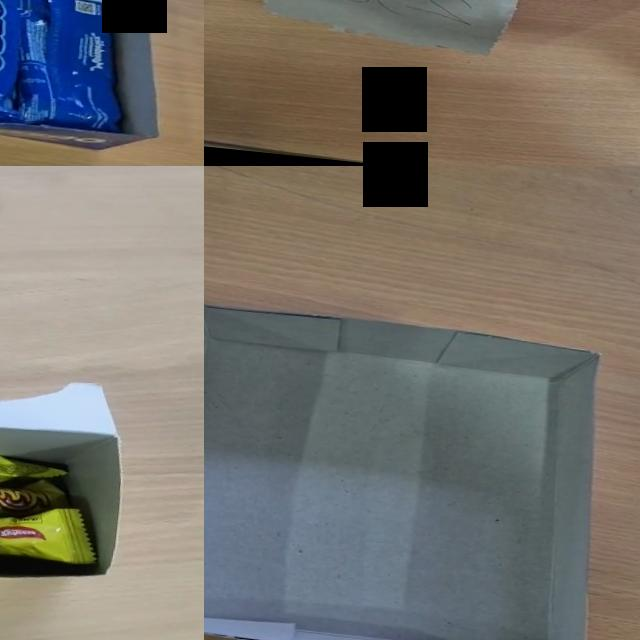Ahh: (0, 497, 102, 567), (0, 454, 73, 548), (0, 423, 69, 496)
Oreo: (2, 0, 143, 134)
